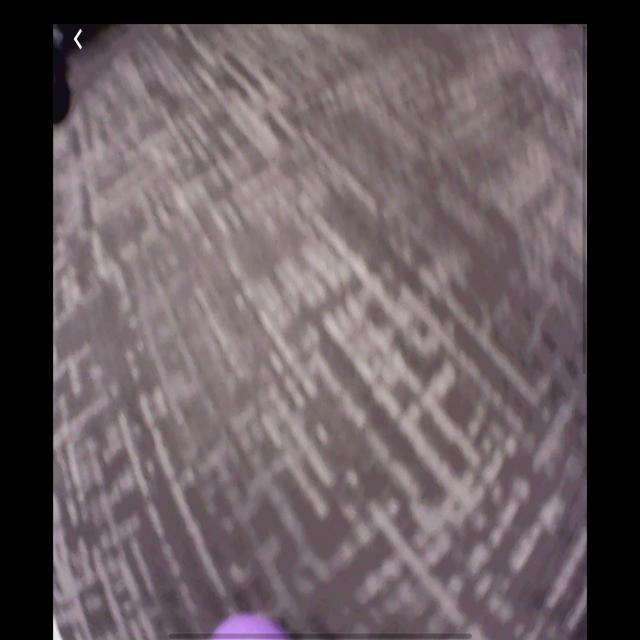ball: (212, 614, 291, 640)
